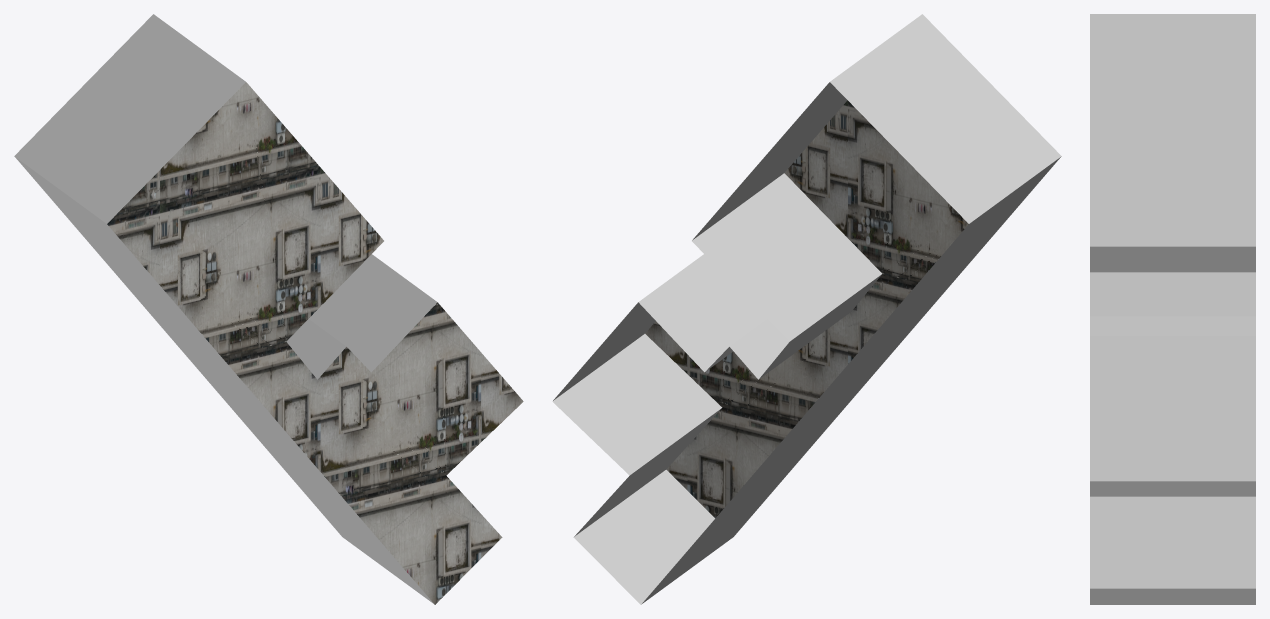
The model's file is geospecific_1335.obj.
The picture shows the model from 3 angles, left to right: view 1: azimuth 30°, elevation 25°; view 2: azimuth 150°, elevation 25°; view 3: azimuth 270°, elevation 25°; orthographic projection. The views are drawn at different scales.
Visible parts, largest first — view 1: Building; view 2: Building; view 3: Building.
Boxes of the visible parts, bbox=[...] form: Building: bbox=[14, 14, 523, 604]; Building: bbox=[552, 14, 1061, 604]; Building: bbox=[1090, 14, 1255, 604].
Bounding box in the file's own units: 15.56 × 20.3 × 6.
